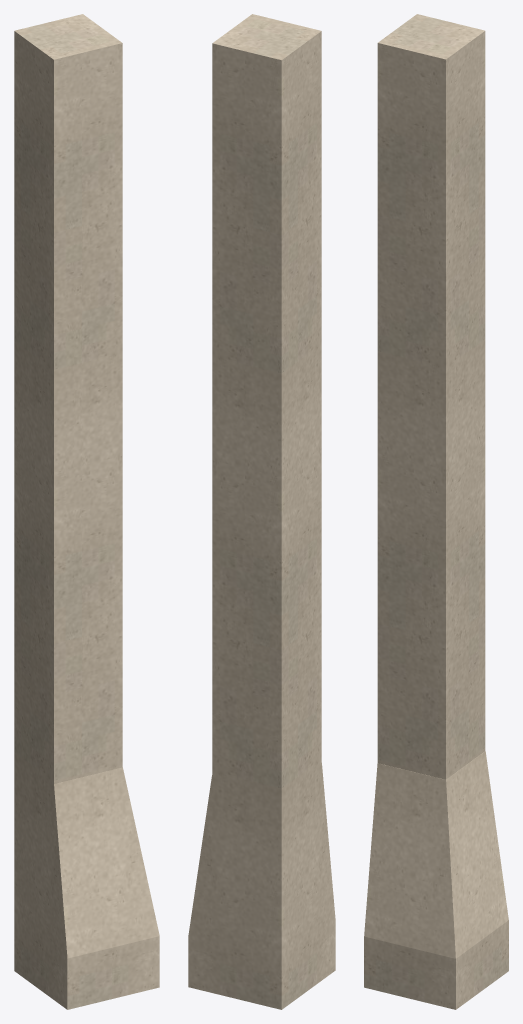
File: m_corner.glb
3 renders of one model, left to right at view 1: azimuth 30°, elevation 25°; view 2: azimuth 150°, elevation 25°; view 3: azimuth 330°, elevation 25°, orthographic.
Visible parts, largest first — view 1: m_corner_render; view 2: m_corner_render; view 3: m_corner_render.
Boxes of the visible parts, x1,y1,x2,y2 form: m_corner_render: (14, 14, 159, 1009); m_corner_render: (188, 14, 335, 1009); m_corner_render: (364, 14, 508, 1009).
Bounding box in the file's own units: 0.47 × 4.58 × 0.47.
1 material, 1 textured.
